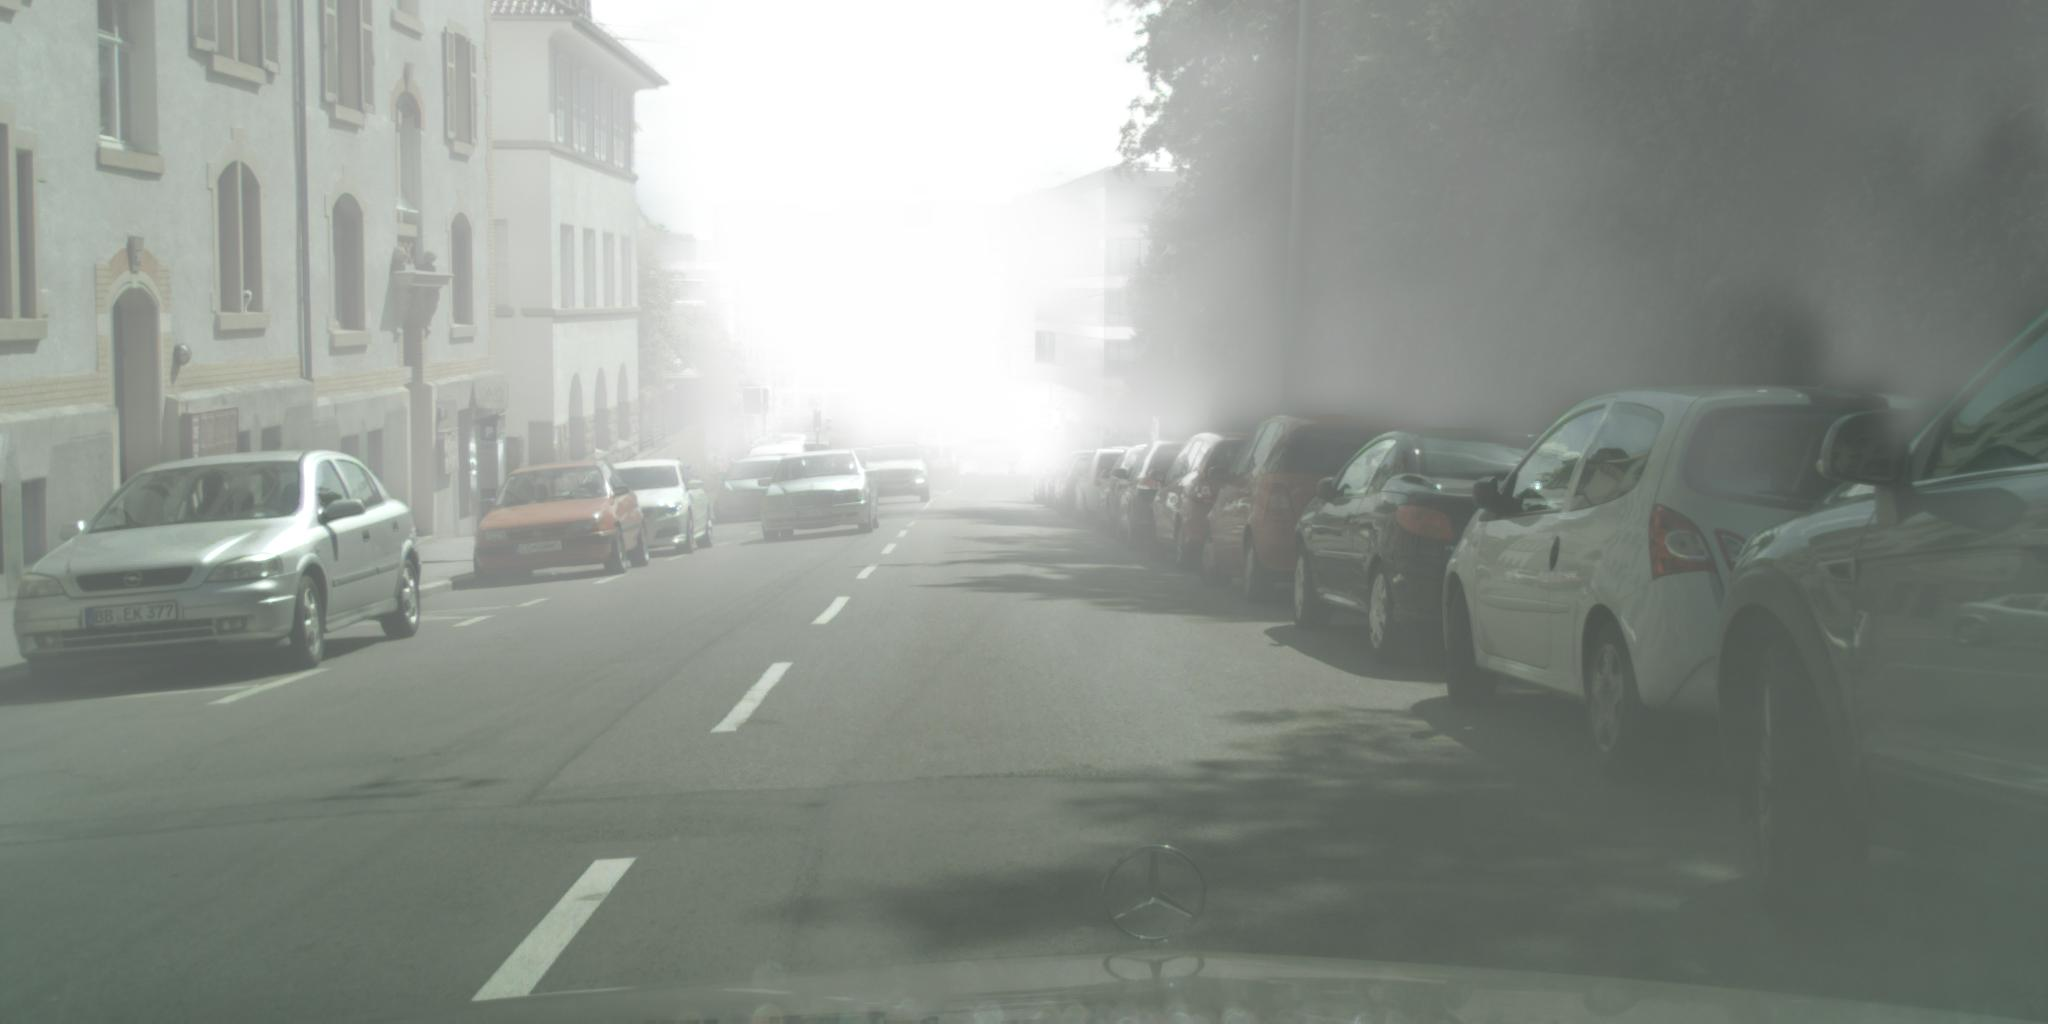car: (1701, 300, 2044, 940), (1438, 372, 1960, 784), (9, 447, 427, 704), (1289, 427, 1558, 666), (1192, 409, 1425, 609), (472, 458, 652, 589), (1144, 426, 1267, 572), (756, 449, 882, 543), (593, 458, 716, 554), (1110, 438, 1196, 552), (1064, 444, 1138, 526), (1093, 441, 1155, 539), (712, 455, 794, 524), (1051, 449, 1104, 520), (1031, 453, 1071, 509), (746, 431, 812, 465), (1044, 455, 1075, 512), (955, 451, 1014, 479), (793, 430, 839, 461)
